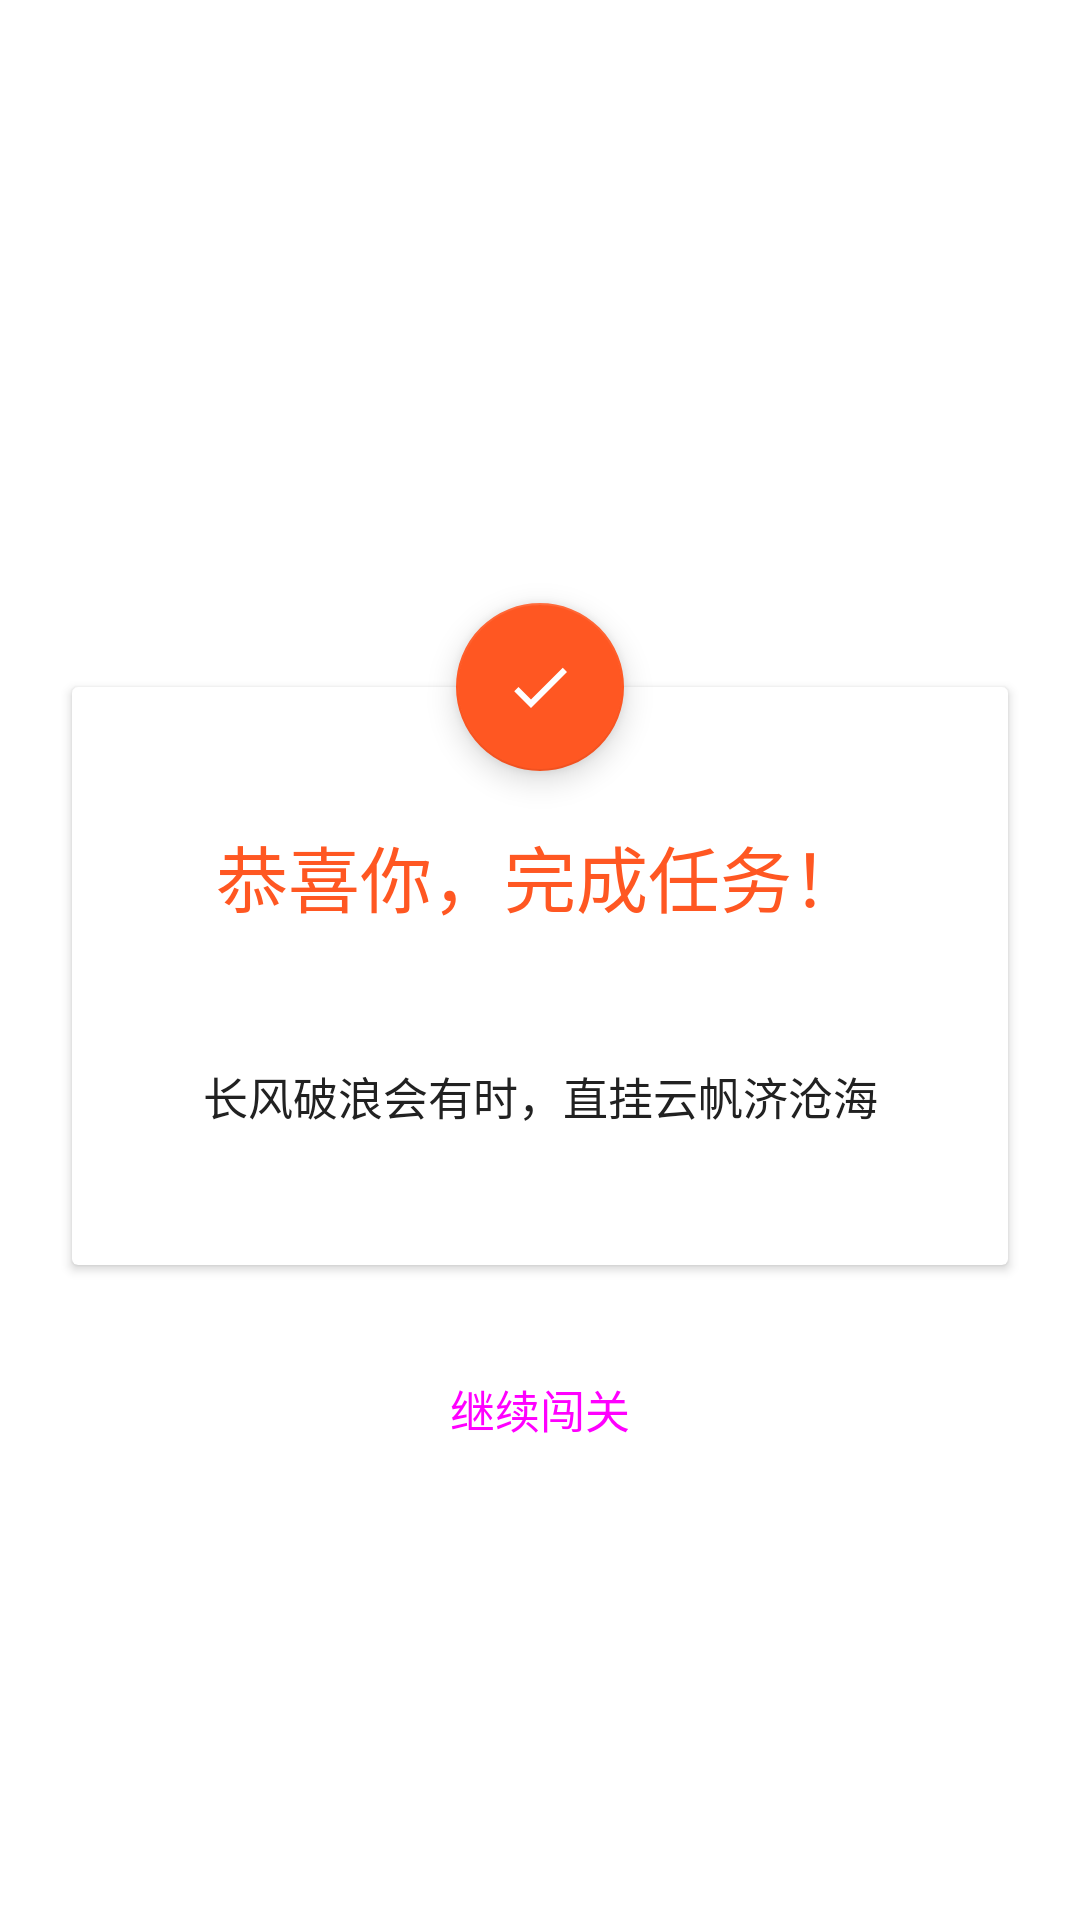

Icons on this 1080px×1920px Android screen, each with its box as (x1, y1, x2, y2):
check: (456, 603, 624, 771)
